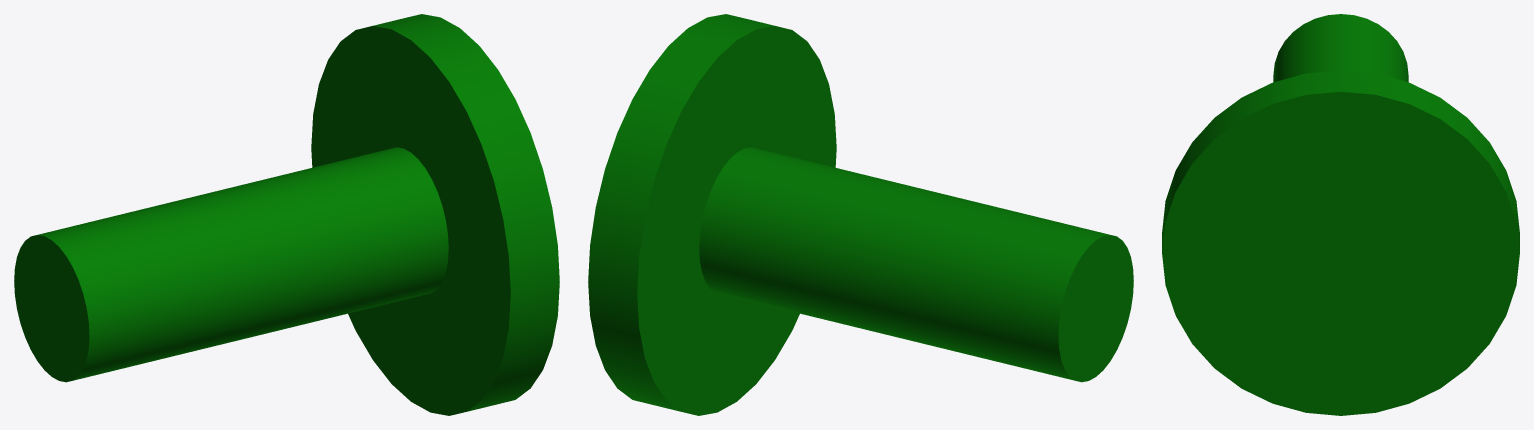
The model's file is Image-1710907701816-2280937029888_71SM53A.fbx.
The picture shows the model from 3 angles, left to right: view 1: azimuth 30°, elevation 25°; view 2: azimuth 150°, elevation 25°; view 3: azimuth 270°, elevation 25°; orthographic projection. The views are drawn at different scales.
Visible parts, largest first — view 1: /N1.; view 2: /N1.; view 3: /N1..
Part boxes in pixels (left/top/right/bottom): /N1.: left=14, top=14, right=559, bottom=415; /N1.: left=588, top=14, right=1133, bottom=415; /N1.: left=1162, top=14, right=1519, bottom=415.
Bounding box in the file's own units: 0.15 × 0.127 × 0.127.
